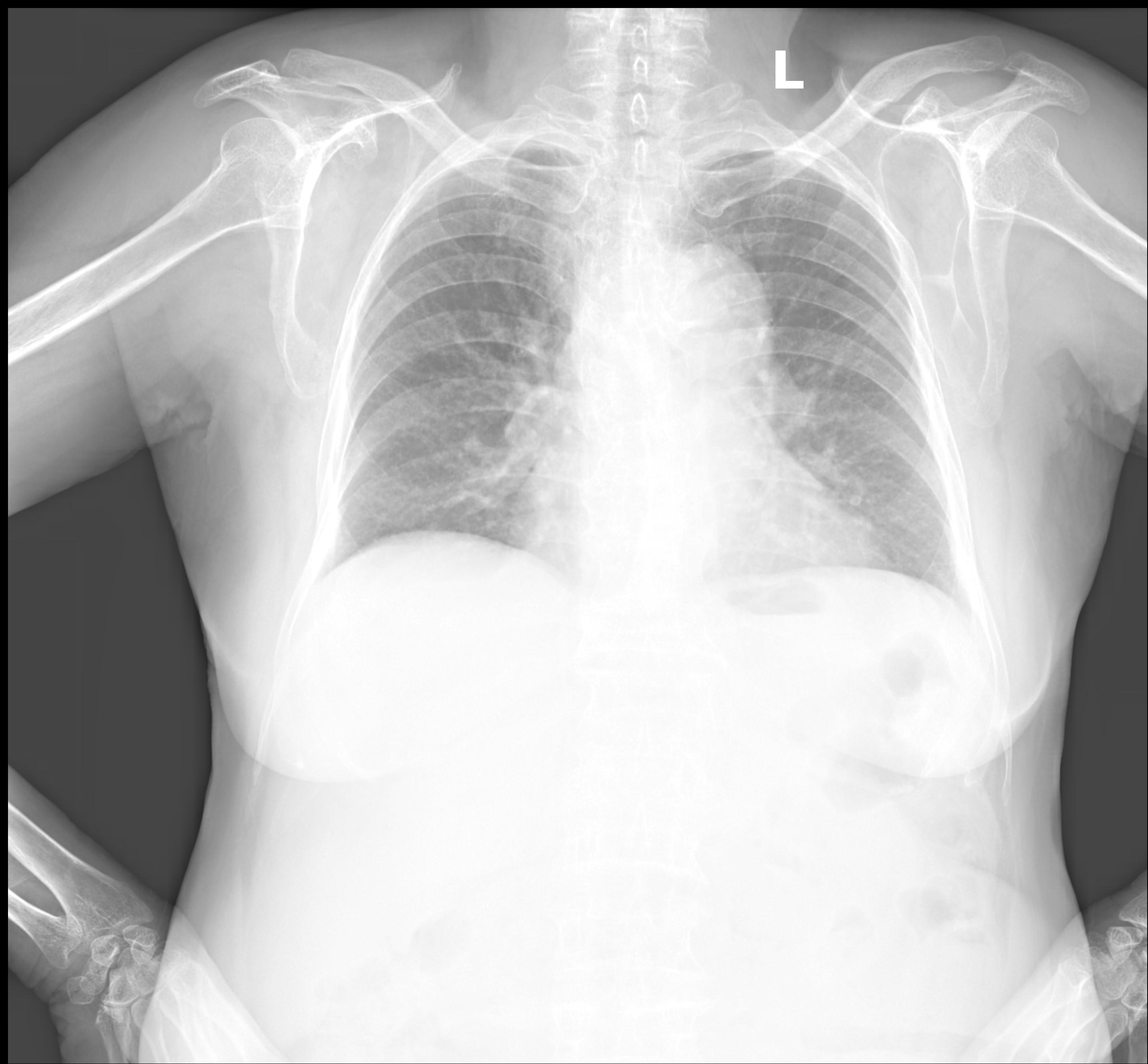Aortic enlargement: (651, 243, 773, 384)
Cardiomegaly: (506, 494, 892, 600)
Pleural thickening: (451, 137, 573, 160)
